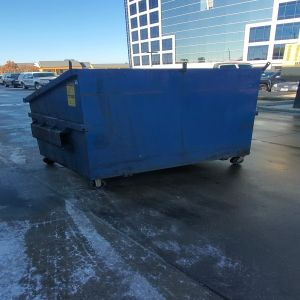Dumpster: (25, 69, 264, 191)
